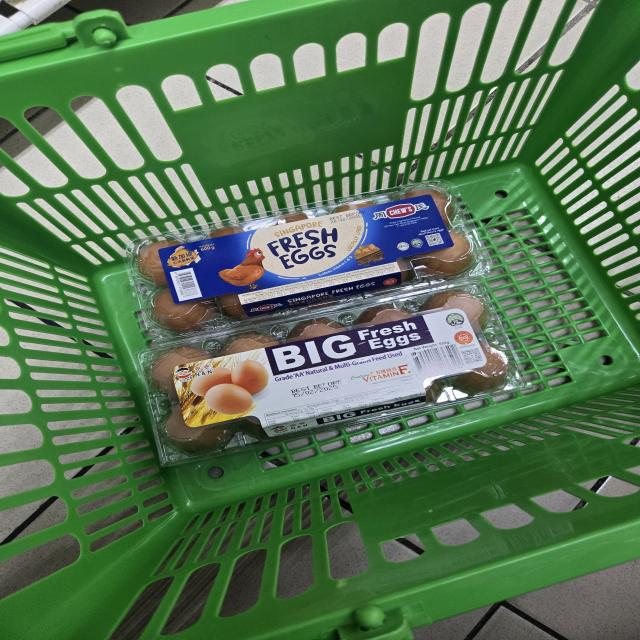eggs: (130, 278, 540, 472), (121, 178, 504, 350)
